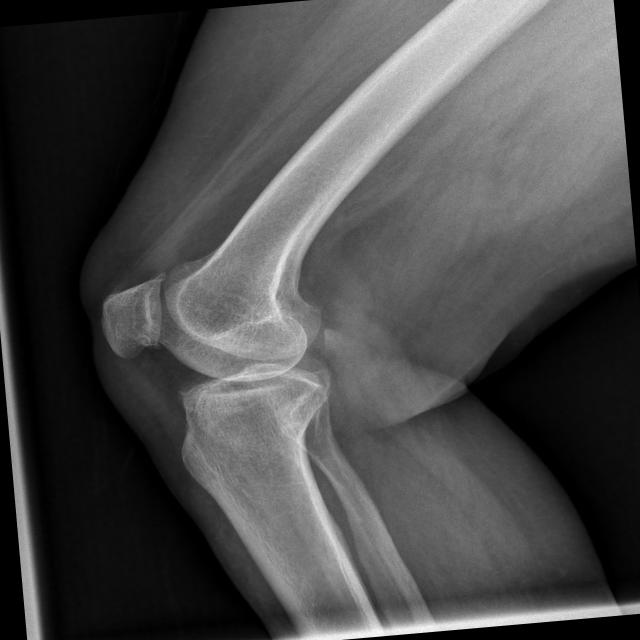Knee: (96, 261, 332, 452)
